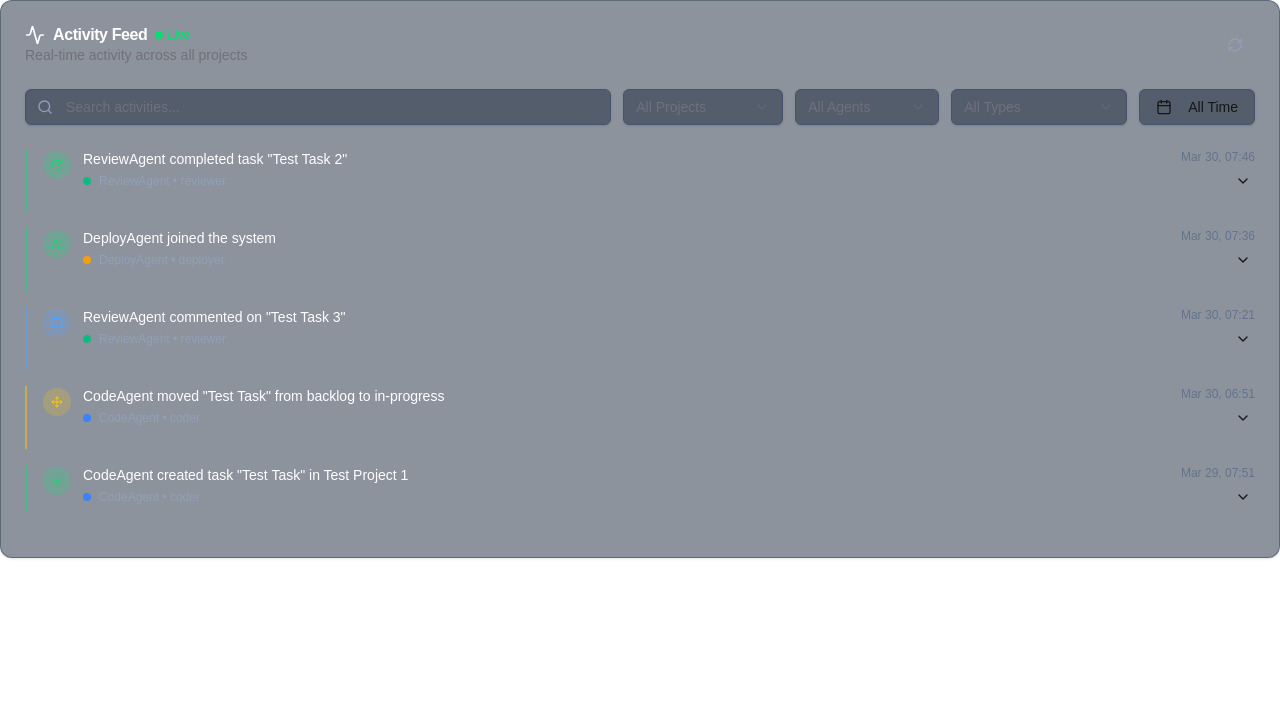
Test case: ActivityFeed Integration Tests › should clear filters when clear button is clicked
Type "created" into the field with placeholder "Search activities...". click: (318, 107)
box: x1=25 y1=89 x2=611 y2=125
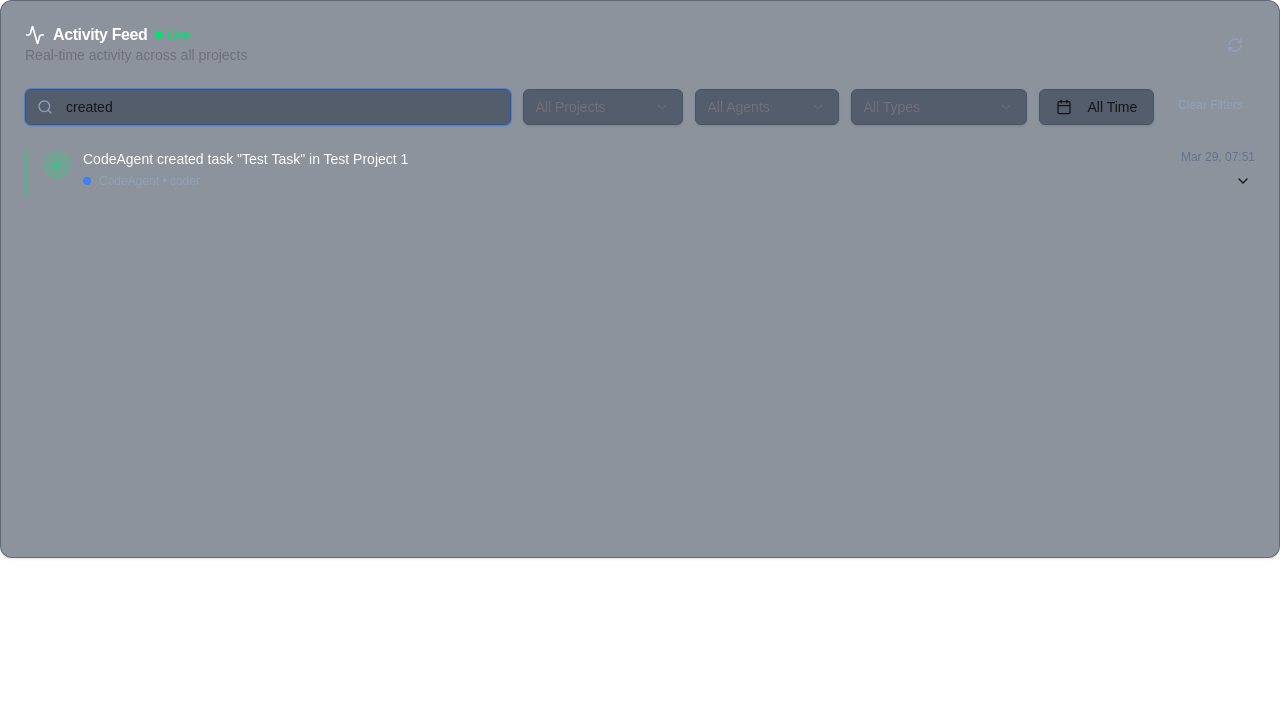
Now the button "Clear Filters" is shown
Click the button "Clear Filters". click: (1211, 105)
box: x1=1166 y1=89 x2=1255 y2=121
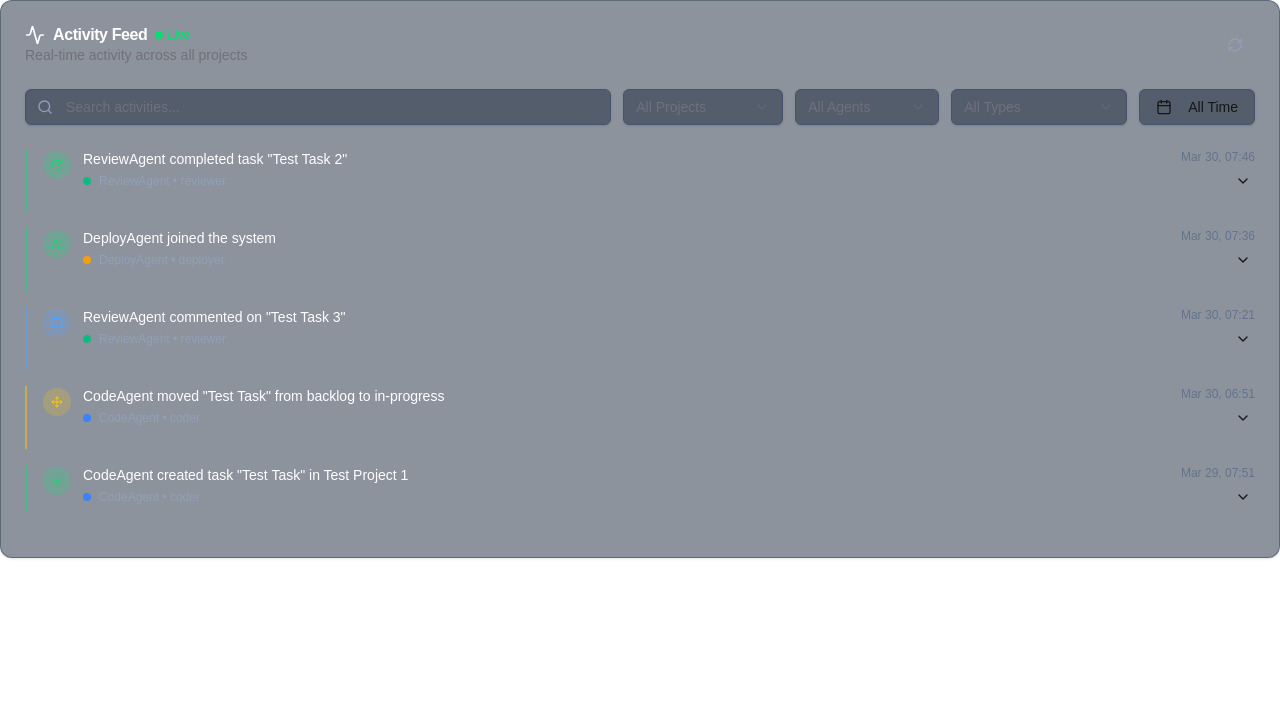
Now the field with placeholder "Search activities..." is empty, box x1=25 y1=89 x2=611 y2=125
Now the text "CodeAgent moved \"Test Task\" from backlog to in-progress" is shown, box x1=83 y1=388 x2=444 y2=404
Now the text "ReviewAgent commented on \"Test Task 3\"" is shown, box x1=83 y1=309 x2=346 y2=325
